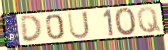0: (44, 13, 67, 41)
1: (101, 8, 115, 37)
D: (19, 14, 44, 44)
O: (114, 6, 138, 37)
Q: (136, 6, 163, 35)
U: (66, 10, 91, 40)
